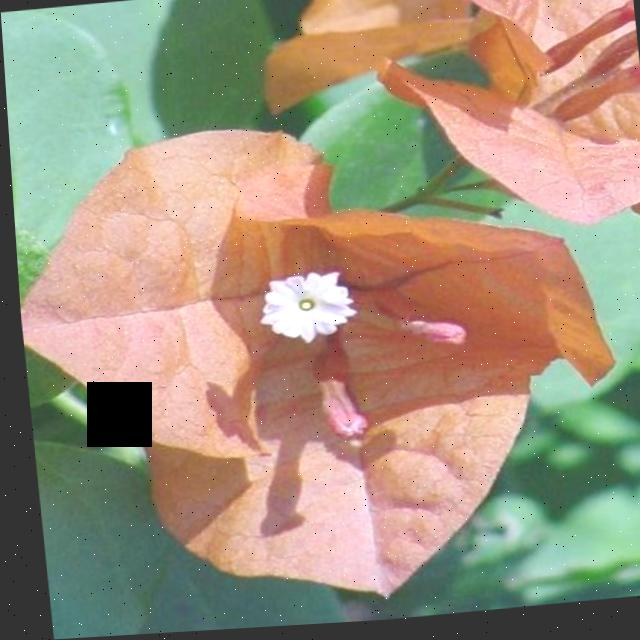bougainvillea: (4, 51, 640, 640)
